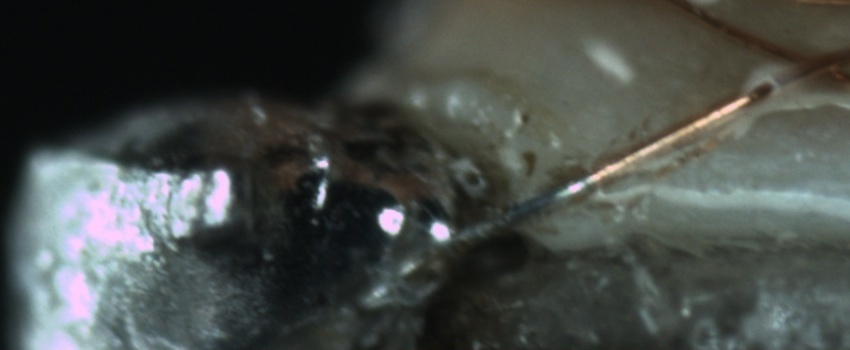CL: (765, 39, 847, 87)
TS: (445, 175, 589, 245)
TTCW: (446, 164, 608, 249)
